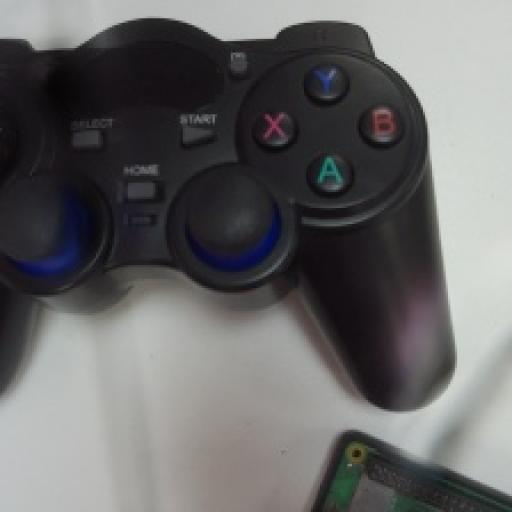game pad: (0, 18, 455, 409)
